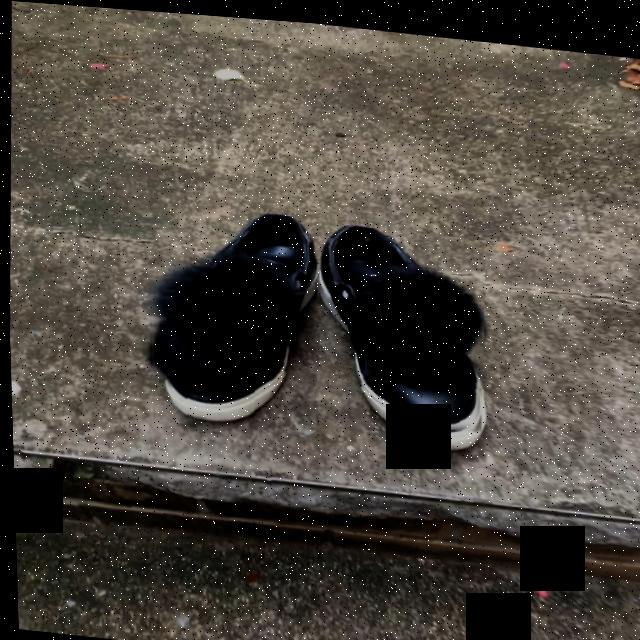shoe: (149, 209, 315, 423), (317, 220, 483, 425)
